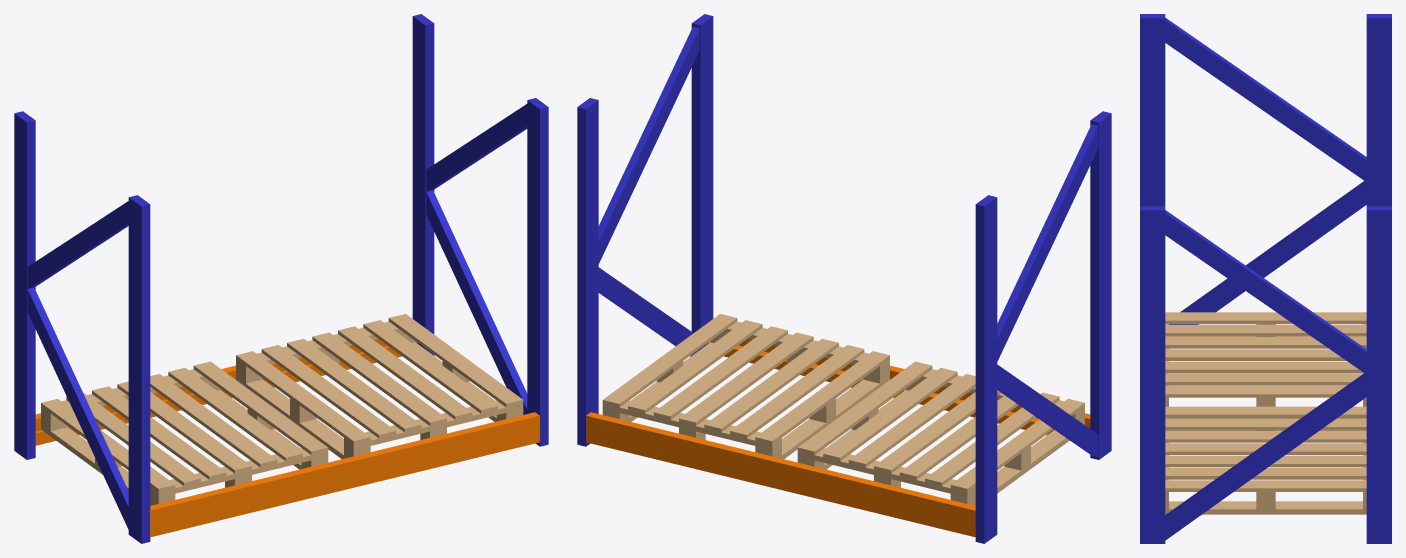
Rendered from Longarina_Separado_2pallets_1.glb.
3 renders of one model, left to right at view 1: azimuth 30°, elevation 25°; view 2: azimuth 150°, elevation 25°; view 3: azimuth 270°, elevation 25°, orthographic.
Visible parts, largest first — view 1: Barras_Laterais, Cube.002, Cube.005, Barra_Horizontal_frente, Cube, Cube.003, Cube.004, Cube.001, Cube.006; view 2: Barras_Laterais, Cube.002, Cube.005, Cube.006, Cube.004, Cube.001, Cube, Cube.003, Barra_Horizontal_frente; view 3: Barras_Laterais, Cube.002, Cube.005, Cube.003, Cube.001, Cube.004, Cube.
Boxes of the visible parts, box(x1,y1,x2,y2) form: Barras_Laterais: box(14, 14, 548, 543); Cube.002: box(236, 314, 523, 458); Cube.005: box(41, 361, 328, 505); Barra_Horizontal_frente: box(150, 412, 539, 537); Cube: box(27, 288, 128, 529); Cube.003: box(426, 190, 527, 414); Cube.004: box(426, 104, 527, 191); Cube.001: box(27, 201, 128, 288); Cube.006: box(35, 339, 417, 445); Barras_Laterais: box(577, 14, 1111, 543); Cube.002: box(602, 314, 889, 458); Cube.005: box(797, 361, 1084, 505); Cube.006: box(586, 412, 975, 537); Cube.004: box(598, 27, 699, 263); Cube.001: box(997, 124, 1098, 361); Cube: box(997, 364, 1098, 456); Cube.003: box(598, 267, 699, 356); Barra_Horizontal_frente: box(705, 339, 1090, 435); Barras_Laterais: box(1140, 14, 1391, 543); Cube.002: box(1165, 406, 1366, 514); Cube.005: box(1165, 312, 1366, 418); Cube.003: box(1165, 373, 1366, 540); Cube.001: box(1165, 18, 1366, 181); Cube.004: box(1165, 210, 1366, 374); Cube: box(1169, 181, 1366, 324).
Size of the model in its own units: 2.4 by 1.9 by 1.3.
